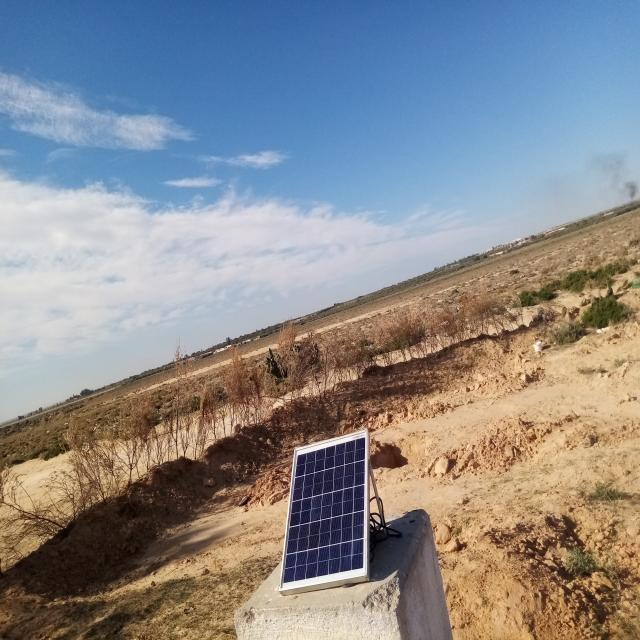no faulty: (280, 431, 368, 591)
